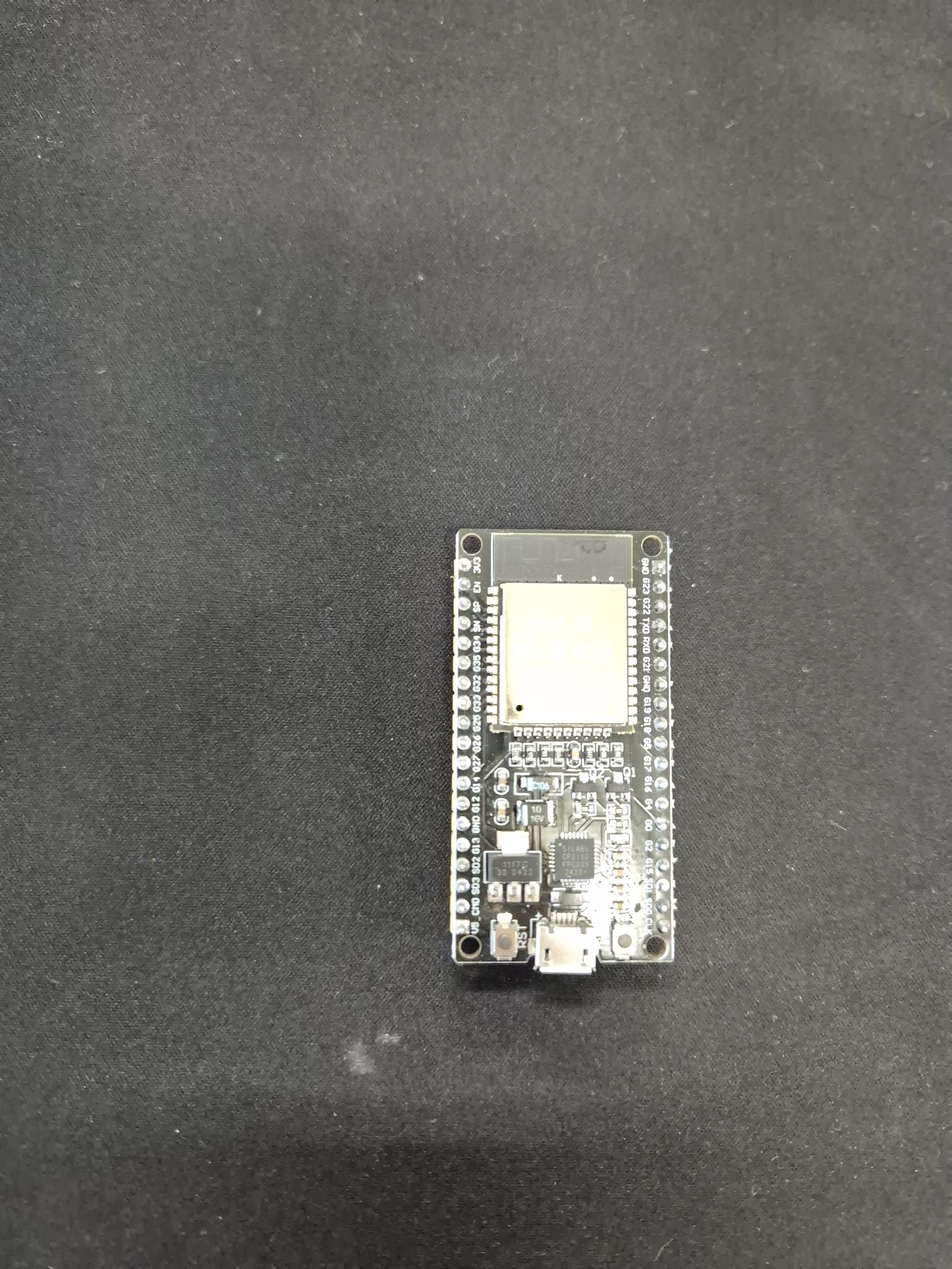esp32-dev: (451, 529, 676, 975)
